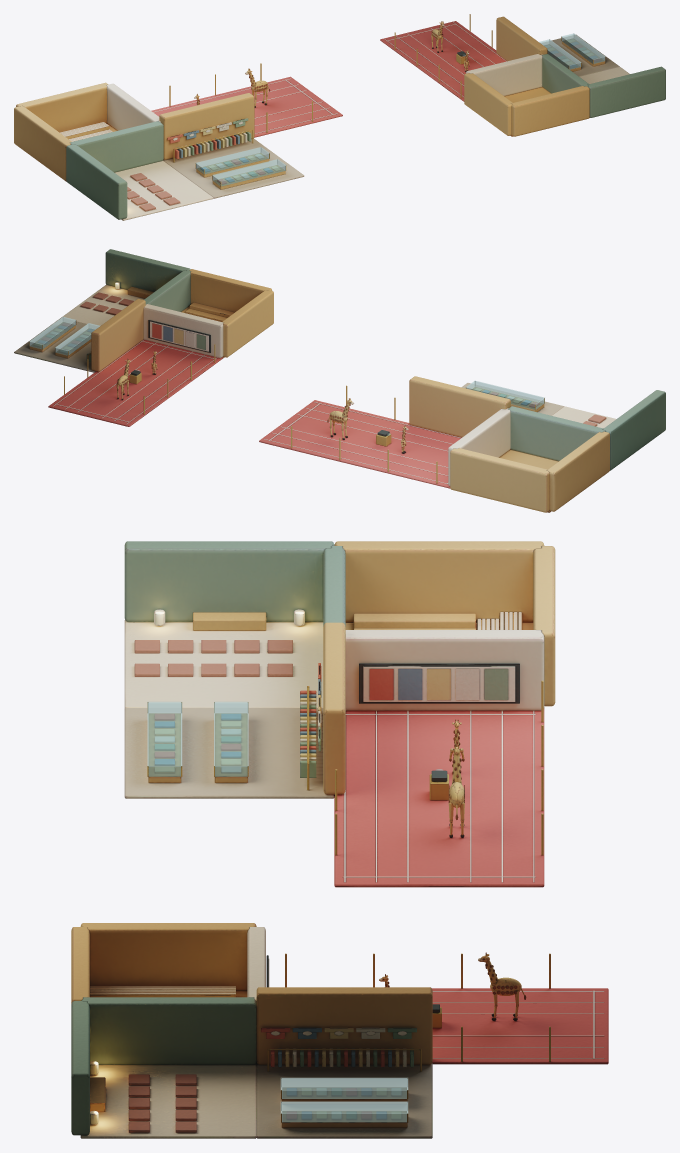
File: baked.glb
The picture shows the model from 3 angles, top to bottom: view 1: azimuth 30°, elevation 25°; view 2: azimuth 150°, elevation 25°; view 3: azimuth 270°, elevation 25°; orthographic projection. The views are drawn at different scales.
Parts seen in each view (by area): view 1: module_1_0_Sports_Floor.001, module_0_0_Sports_Floor.001, module_0_0_Vintage_Tshirt_Wall.001, module_0_0_Vintage_Floor.001, module_0_0_Prayer_Back_Wall.001, module_1_0_Sauna_Left_Wall.001, module_0_0_Prayer_Left_Wall.001, module_0_0_Sauna_Back_Wall.001, module_1_0_Prayer_Left_Wall.001, module_0_0_Supporters_Floor.001, module_0_0_Sauna_Left_Wall.001, module_1_0_Shared_Sauna_Sports_Wall.001 (+18 smaller); view 2: module_0_0_Sports_Floor.001, module_1_0_Sports_Floor.001, module_0_0_Sauna_Back_Wall.001, module_0_0_Vintage_Tshirt_Wall.001, module_0_0_Prayer_Back_Wall.001, module_0_0_Sauna_Left_Wall.001, module_0_0_Prayer_Left_Wall.001, module_1_0_Vintage_Tshirt_Wall.001, module_1_0_Prayer_Left_Wall.001, module_1_0_Sauna_Left_Wall.001, module_1_0_Sauna_Back_Wall.001, module_1_0_Shared_Sauna_Sports_Wall.001 (+11 smaller); view 3: module_0_0_Sports_Floor.001, module_0_0_Prayer_Left_Wall.001, module_0_0_Sauna_Left_Wall.001, module_1_0_Sports_Floor.001, module_0_0_Supporters_Floor.001, module_0_0_Vintage_Floor.001, module_1_0_Vintage_Tshirt_Wall.001, module_1_0_Prayer_Back_Wall.001, module_1_0_Sauna_Back_Wall.001, module_0_0_Shared_Sauna_Sports_Wall.001, module_1_0_Supporters_Floor.001, module_1_0_Vintage_Floor.001 (+22 smaller).
Part boxes in pixels (box(x1,y1,x2,y2)): module_1_0_Sports_Floor.001: box(380, 21, 506, 101); module_0_0_Sports_Floor.001: box(151, 76, 342, 137); module_0_0_Vintage_Tshirt_Wall.001: box(159, 93, 254, 159); module_0_0_Vintage_Floor.001: box(163, 138, 304, 198); module_0_0_Prayer_Back_Wall.001: box(70, 121, 163, 172); module_1_0_Sauna_Left_Wall.001: box(511, 86, 589, 136); module_0_0_Prayer_Left_Wall.001: box(66, 144, 127, 219); module_0_0_Sauna_Back_Wall.001: box(16, 82, 108, 132); module_1_0_Prayer_Left_Wall.001: box(587, 66, 665, 117); module_0_0_Supporters_Floor.001: box(114, 160, 213, 220); module_0_0_Sauna_Left_Wall.001: box(14, 105, 71, 181); module_1_0_Shared_Sauna_Sports_Wall.001: box(466, 54, 543, 96); module_0_0_Sports_Floor.001: box(259, 400, 461, 488); module_1_0_Sports_Floor.001: box(48, 339, 222, 426); module_0_0_Sauna_Back_Wall.001: box(450, 448, 549, 512); module_0_0_Vintage_Tshirt_Wall.001: box(409, 376, 510, 437); module_0_0_Prayer_Back_Wall.001: box(508, 406, 605, 461); module_0_0_Sauna_Left_Wall.001: box(547, 431, 609, 511); module_0_0_Prayer_Left_Wall.001: box(603, 390, 665, 470); module_1_0_Vintage_Tshirt_Wall.001: box(91, 298, 145, 371); module_1_0_Prayer_Left_Wall.001: box(105, 249, 190, 291); module_1_0_Sauna_Left_Wall.001: box(189, 269, 272, 312); module_1_0_Sauna_Back_Wall.001: box(222, 290, 273, 357); module_1_0_Shared_Sauna_Sports_Wall.001: box(143, 304, 223, 358); module_0_0_Sports_Floor.001: box(334, 708, 544, 887); module_0_0_Prayer_Left_Wall.001: box(124, 541, 334, 621); module_0_0_Sauna_Left_Wall.001: box(334, 541, 544, 621); module_1_0_Sports_Floor.001: box(256, 988, 608, 1064); module_0_0_Supporters_Floor.001: box(124, 620, 323, 708); module_0_0_Vintage_Floor.001: box(124, 708, 334, 798); module_1_0_Vintage_Tshirt_Wall.001: box(256, 987, 432, 1064); module_1_0_Prayer_Back_Wall.001: box(81, 997, 256, 1064); module_1_0_Sauna_Back_Wall.001: box(80, 923, 256, 990); module_0_0_Shared_Sauna_Sports_Wall.001: box(345, 630, 544, 710); module_1_0_Supporters_Floor.001: box(80, 1063, 256, 1138); module_1_0_Vintage_Floor.001: box(256, 1063, 432, 1138).
Size of what is drawn, in the model's own units: 70.64 by 5.62 by 30.72.
5 materials, 4 textured.
